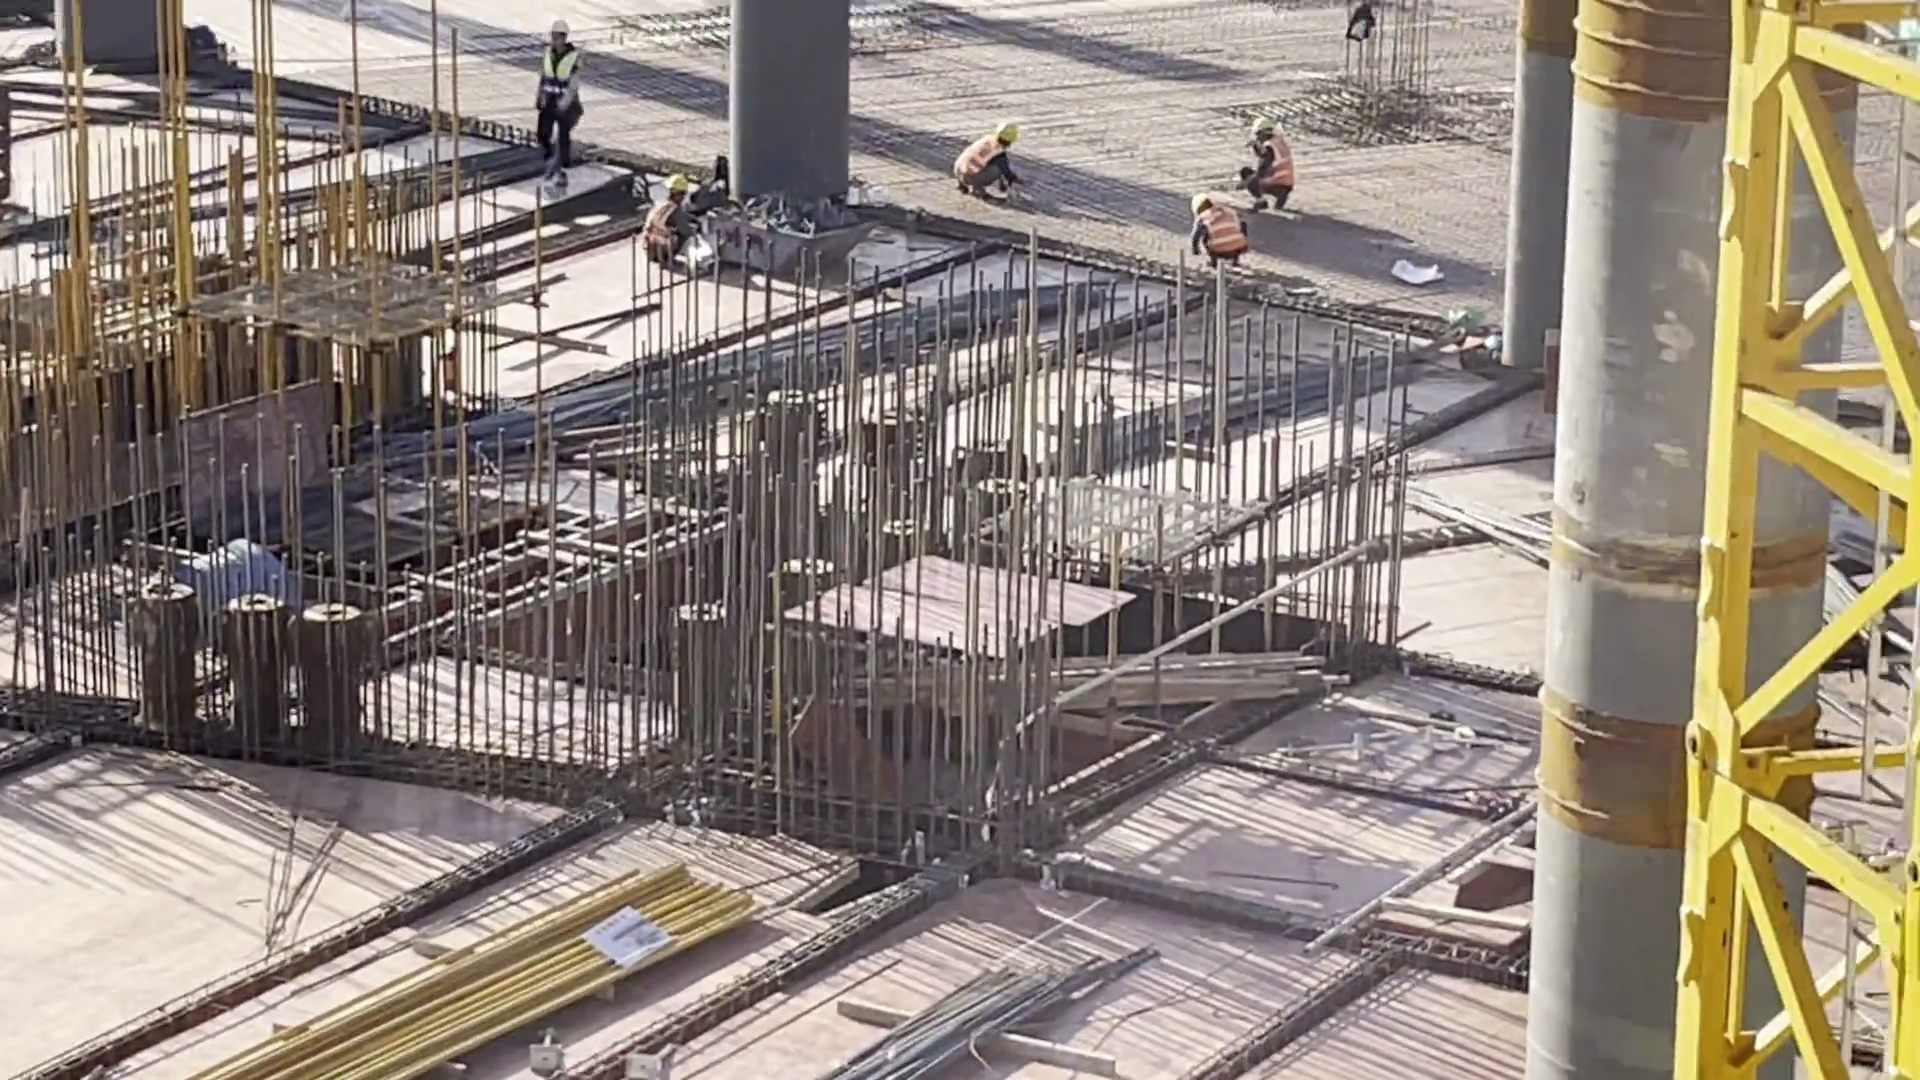helmet: (1000, 112, 1023, 153), (1238, 112, 1271, 139), (541, 16, 570, 42), (667, 167, 690, 194)
hopper: (704, 176, 871, 286)
person: (522, 13, 592, 183), (643, 163, 704, 278), (958, 111, 1023, 201), (1245, 111, 1300, 216), (1182, 194, 1251, 268)
vest: (533, 50, 587, 111), (635, 194, 689, 255), (1187, 209, 1248, 255), (956, 131, 994, 186), (1255, 135, 1296, 186)
